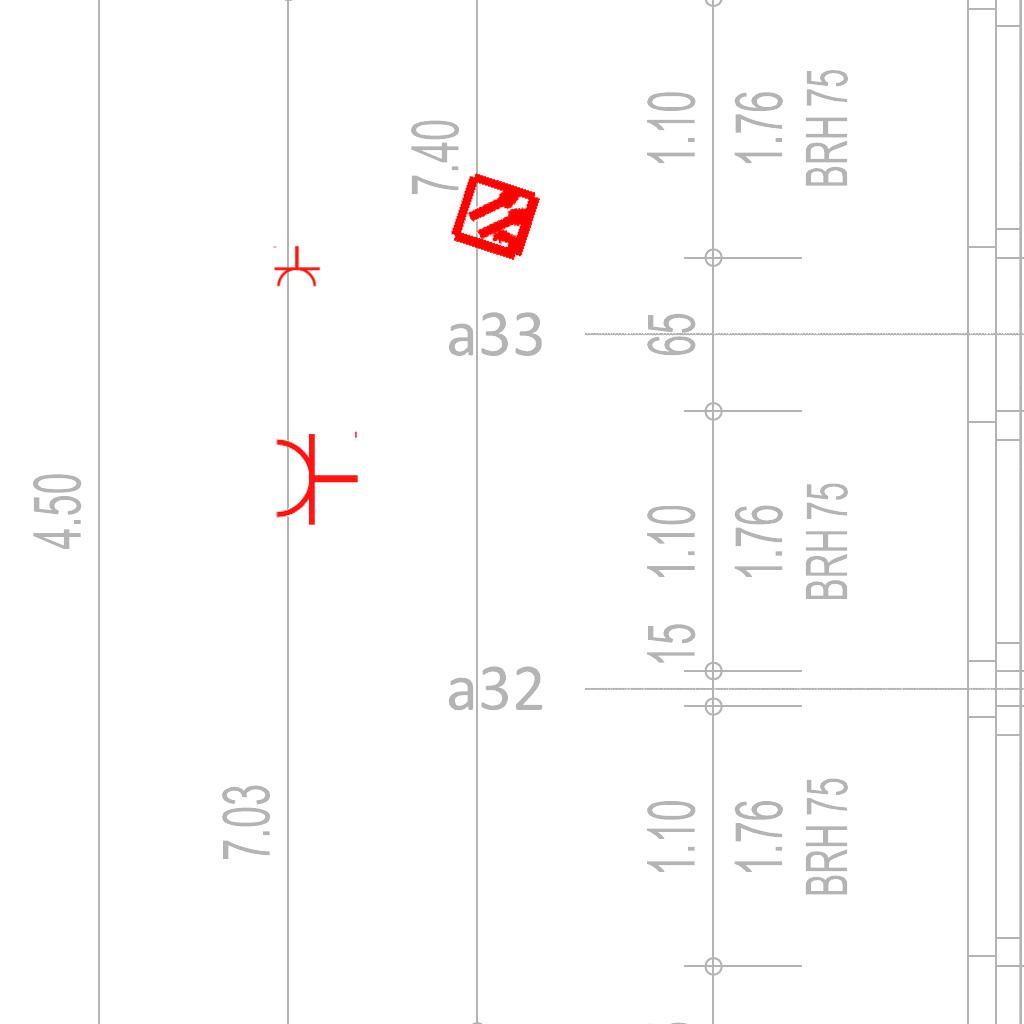OT_Multisensormelder_(Kombination_RMO_WMD): (426, 146, 569, 289)
Schukosteckdose_einfach: (273, 427, 360, 527), (271, 245, 321, 288)
